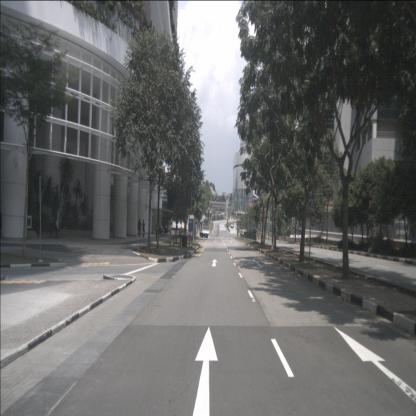cone: (179, 236, 184, 248)
